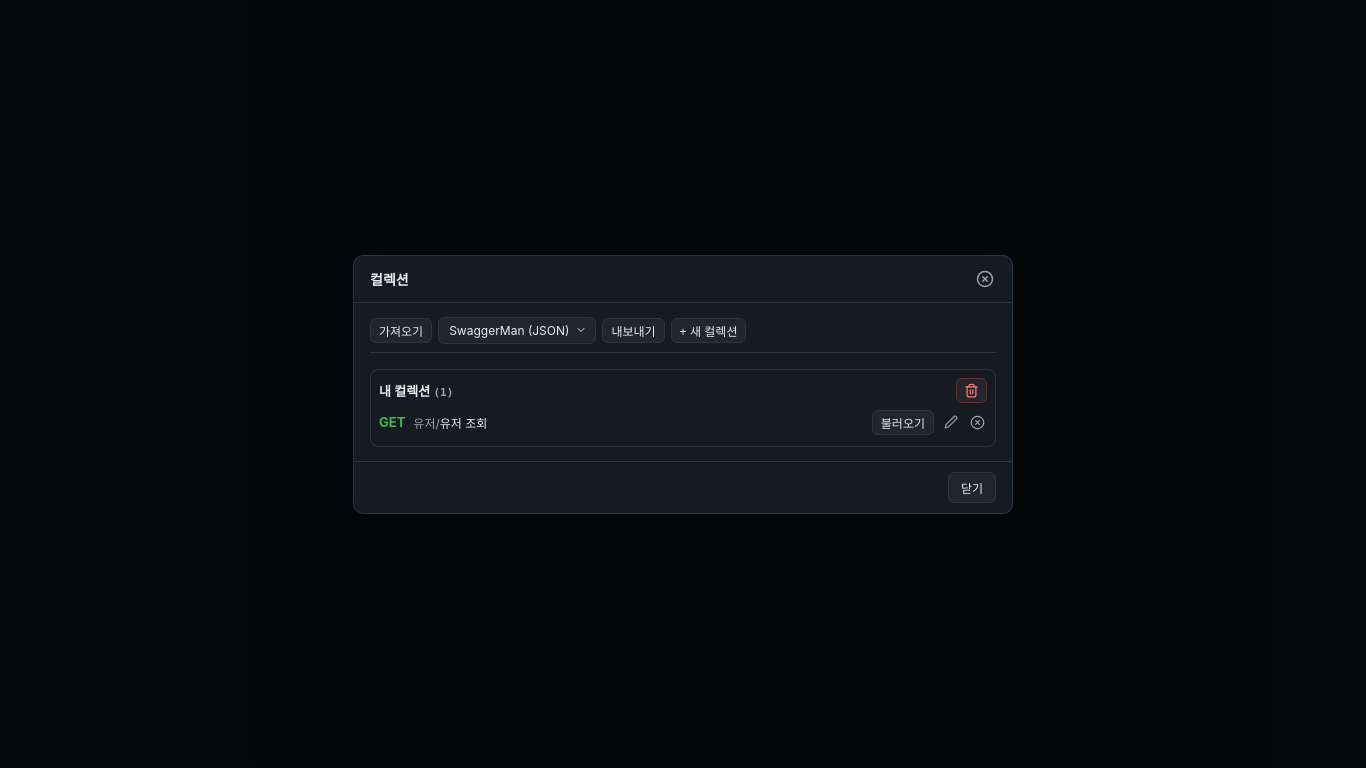
Scenario: 인라인 편집 › 취소하면 편집 폼이 닫히고 변경되지 않는다
Click the button titled "수정" at (951, 422), box [942,413,960,431]
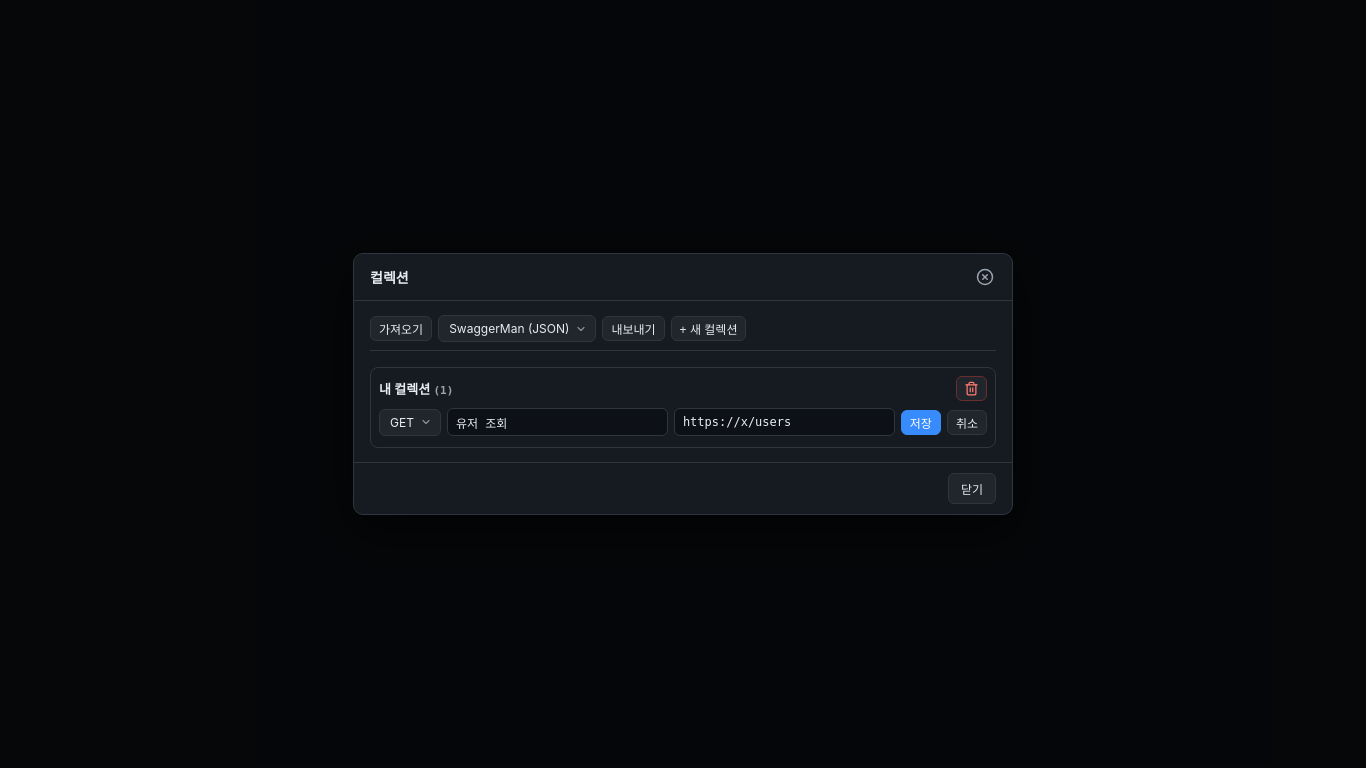
Click the button "취소" at (967, 422), box [947,410,987,434]
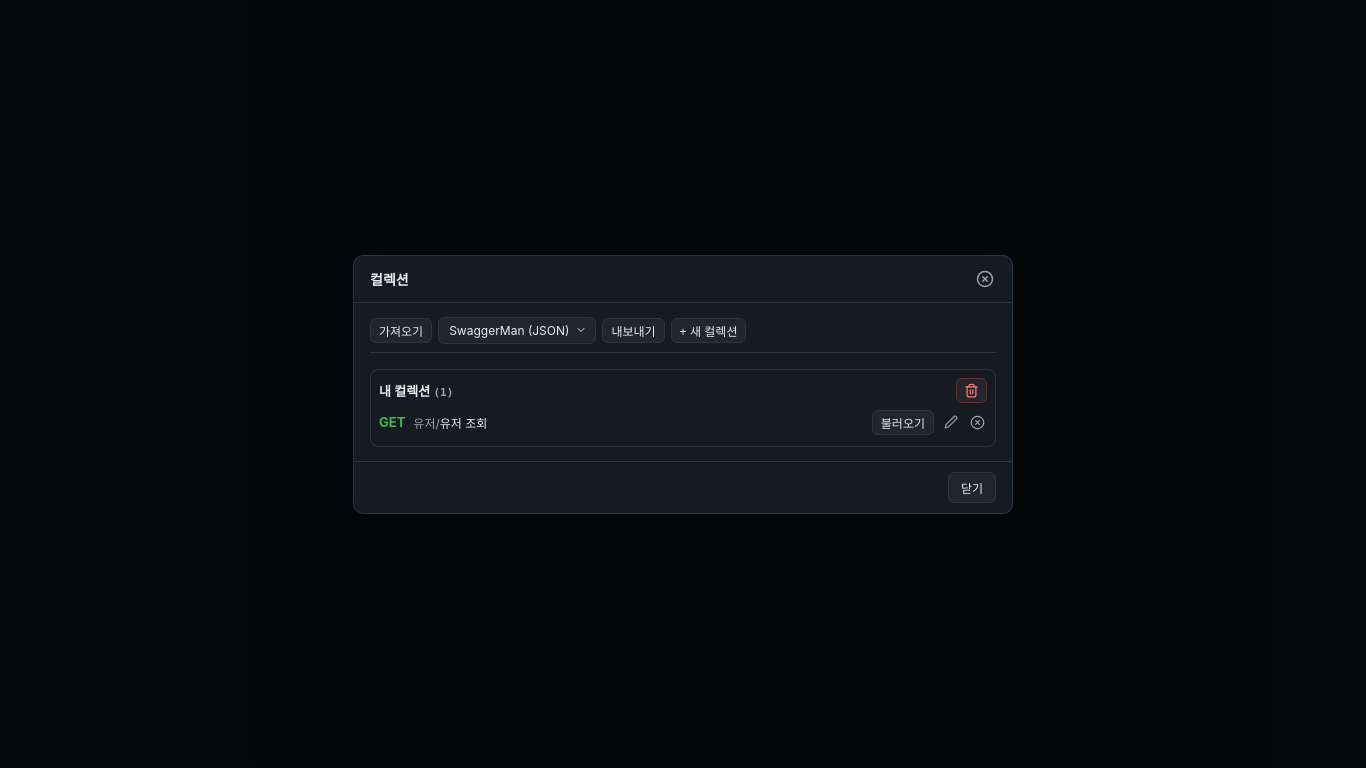
expect the text "유저 조회" is shown: met, box [440,416,487,430]
